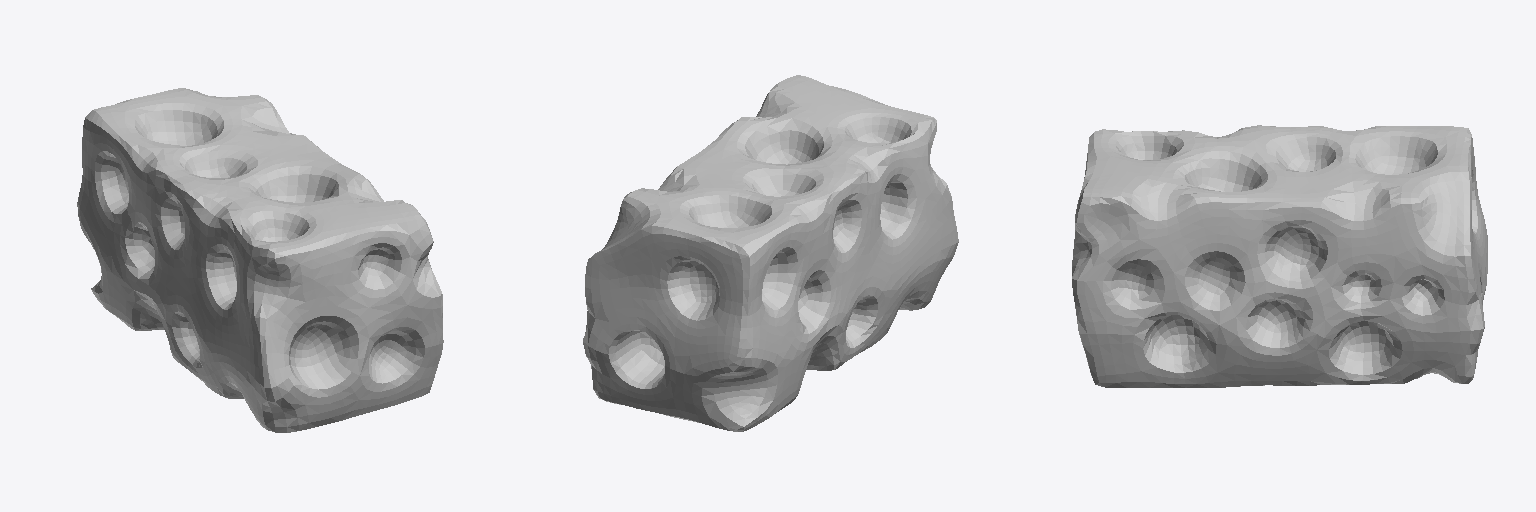
File: uploads_files_3220918_CheeseLOw.obj
3 views of the same model, side by side, from view 1: azimuth 30°, elevation 25°; view 2: azimuth 150°, elevation 25°; view 3: azimuth 270°, elevation 25° (orthographic).
Parts seen in each view (by area): view 1: Group13547; view 2: Group13547; view 3: Group13547.
Part boxes in pixels (x1,y1,x2,y2): Group13547: (77,88,443,432); Group13547: (583,75,958,431); Group13547: (1072,125,1487,387).
Size of the model in its own units: 2.05 by 2.04 by 4.02.